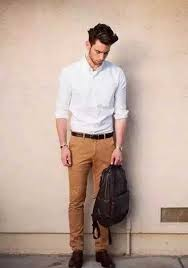F_belt: (68, 128, 119, 143)
F_shirt: (53, 56, 128, 136)
